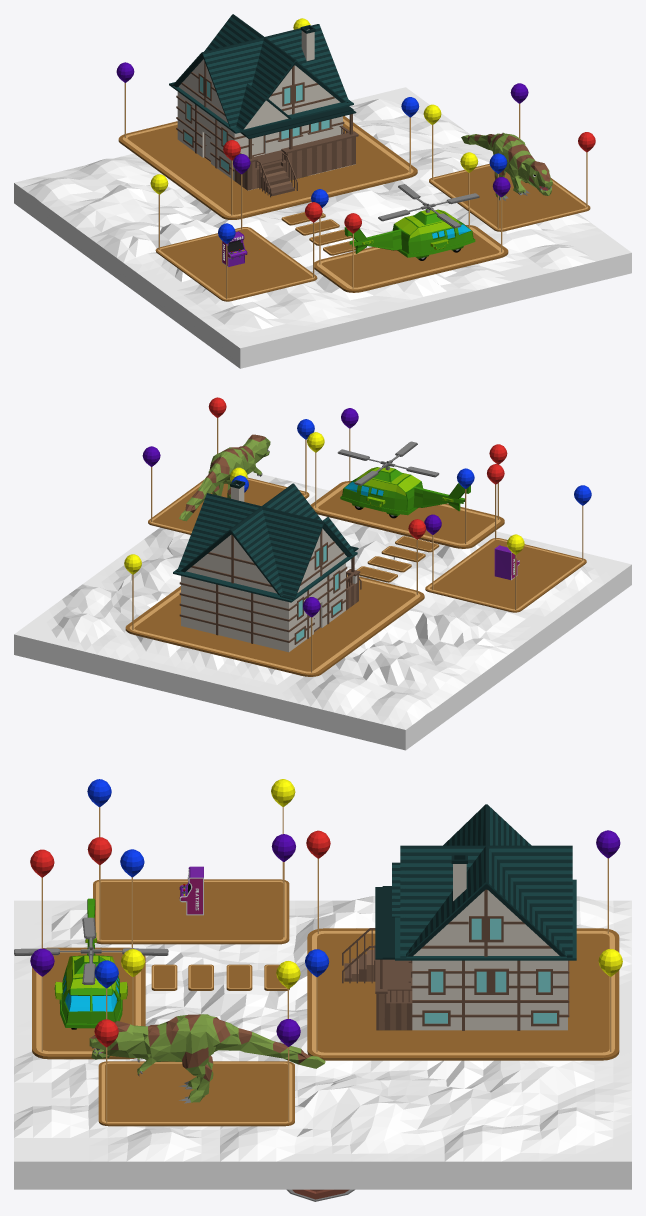
3 views of the same model, one above another, from view 1: azimuth 30°, elevation 25°; view 2: azimuth 150°, elevation 25°; view 3: azimuth 270°, elevation 25° (orthographic). The views are drawn at different scales.
Parts seen in each view (by area): view 1: Cube.013, Cube.793, VEHICLES_HELICOPTER, ANIMAL_TREX, OBJRANDOM_ARCADE; view 2: Cube.013, Cube.793, VEHICLES_HELICOPTER, ANIMAL_TREX, OBJRANDOM_ARCADE; view 3: Cube.013, Cube.793, ANIMAL_TREX, VEHICLES_HELICOPTER, OBJRANDOM_ARCADE, UNDERGROUND_TREASURE.
Boxes of the visible parts, x1=… form: Cube.013: x1=14, y1=18, x2=631, y2=368; Cube.793: x1=169, y1=14, x2=358, y2=197; VEHICLES_HELICOPTER: x1=344, y1=184, x2=479, y2=260; ANIMAL_TREX: x1=461, y1=132, x2=552, y2=200; OBJRANDOM_ARCADE: x1=222, y1=231, x2=247, y2=266; Cube.013: x1=14, y1=397, x2=631, y2=750; Cube.793: x1=173, y1=480, x2=361, y2=652; VEHICLES_HELICOPTER: x1=337, y1=441, x2=470, y2=518; ANIMAL_TREX: x1=179, y1=434, x2=270, y2=521; OBJRANDOM_ARCADE: x1=494, y1=545, x2=519, y2=580; Cube.013: x1=14, y1=779, x2=631, y2=1189; Cube.793: x1=342, y1=804, x2=576, y2=1030; ANIMAL_TREX: x1=89, y1=1014, x2=325, y2=1103; VEHICLES_HELICOPTER: x1=14, y1=898, x2=168, y2=1029; OBJRANDOM_ARCADE: x1=179, y1=866, x2=203, y2=915; UNDERGROUND_TREASURE: x1=286, y1=1189, x2=354, y2=1201.
Size of the model in its own units: 4000 by 2404 by 4001.
Materials: 41 (2 with a texture image).
